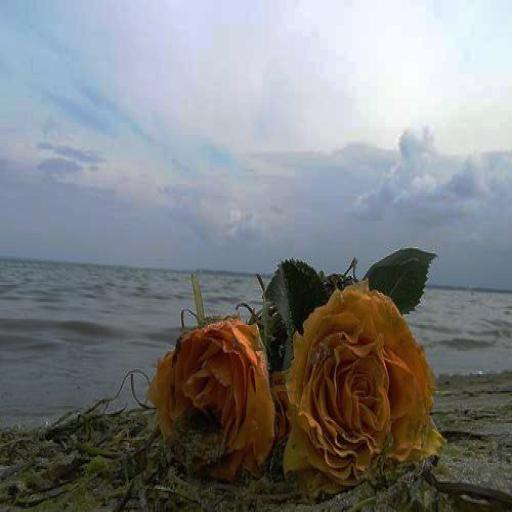rose: (282, 274, 448, 482), (146, 317, 278, 492)
